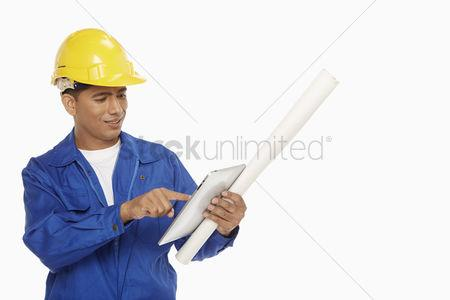helmet: (51, 29, 152, 90)
